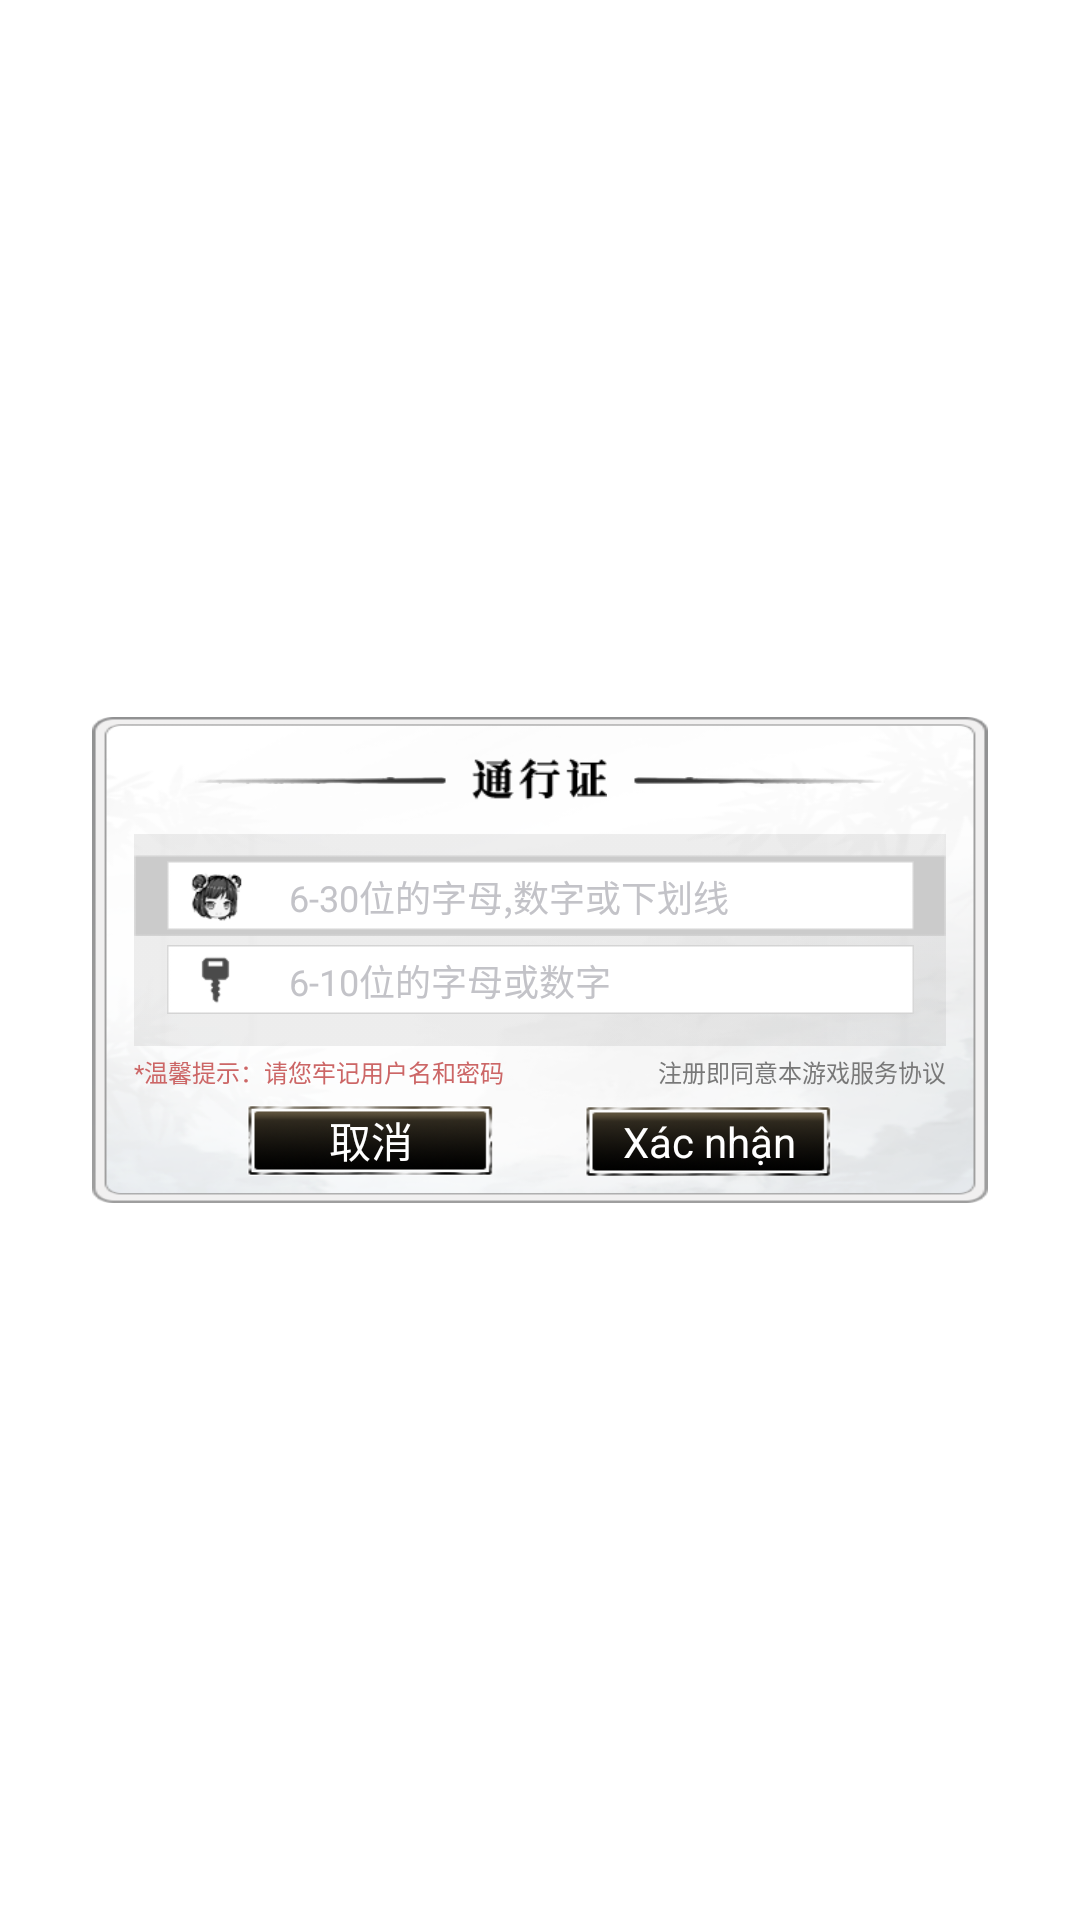

Icon click points for this 1080px×1920px phone screenshot, format (x,y):
sdk yaoshi: (215,980)
